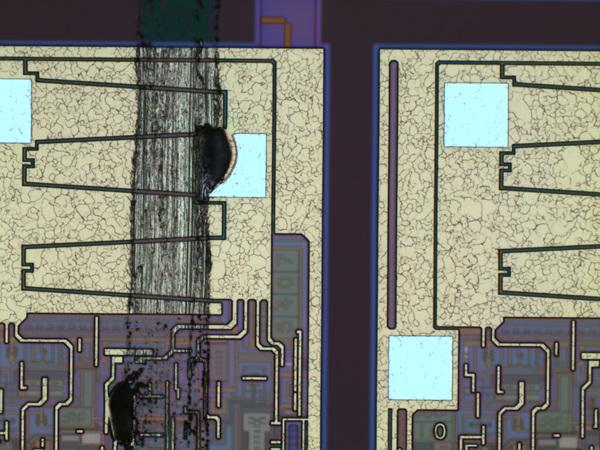SCRATCH: (105, 2, 234, 450)
